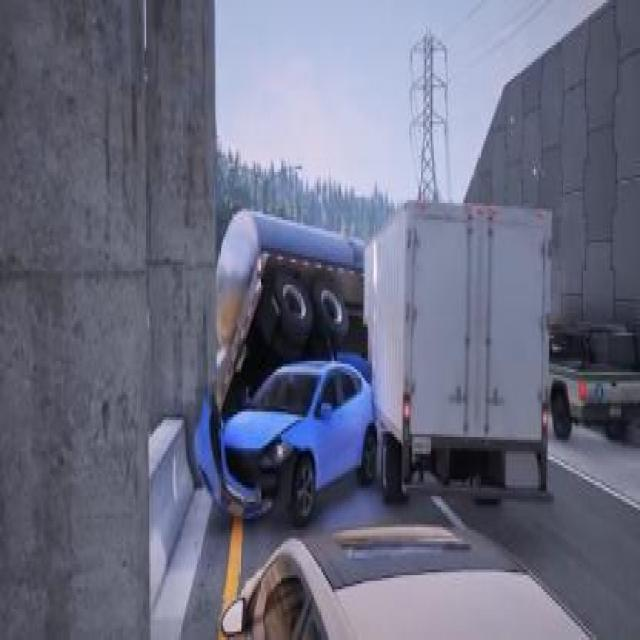accident: (190, 178, 562, 536)
